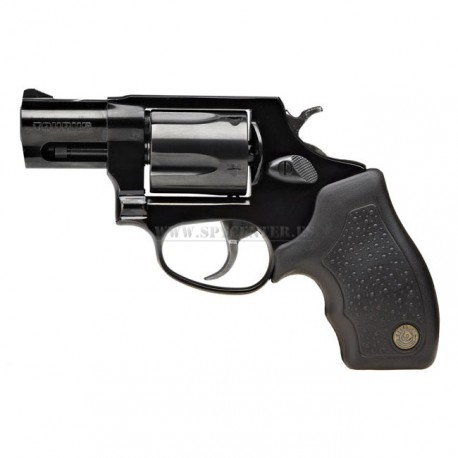Revolver: (10, 65, 441, 384)
